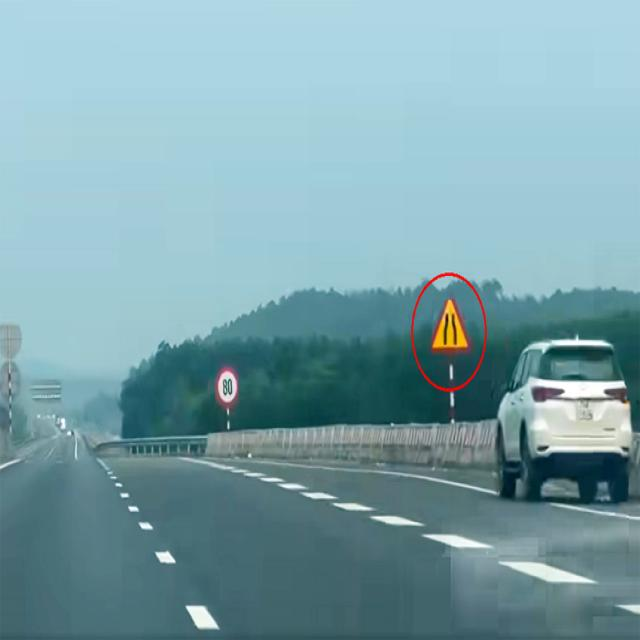Bien bao duong bi thu hep: (431, 292, 471, 358)
Bien bao toc do toi da cho phep: (215, 364, 244, 408)
